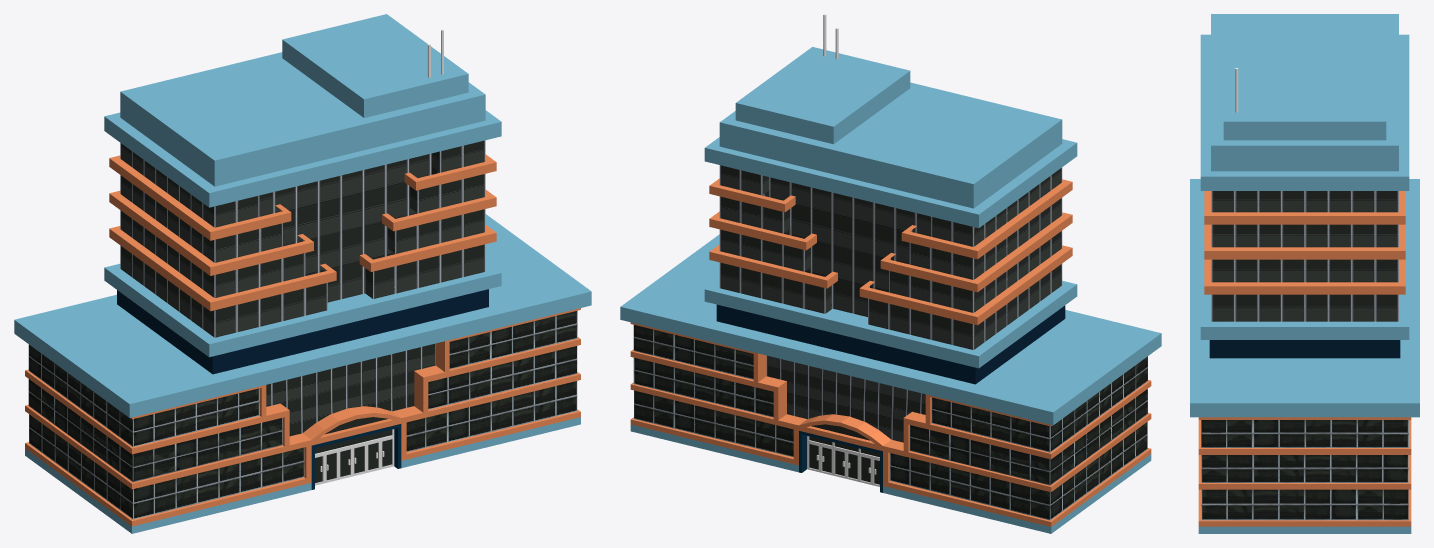
3 renders of one model, left to right at view 1: azimuth 30°, elevation 25°; view 2: azimuth 150°, elevation 25°; view 3: azimuth 270°, elevation 25°, orthographic. The views are drawn at different scales.
Parts seen in each view (by area): view 1: BB-N12; view 2: BB-N12; view 3: BB-N12.
Part boxes in pixels (left/top/right/bottom): BB-N12: left=14, top=14, right=591, bottom=533; BB-N12: left=620, top=14, right=1161, bottom=533; BB-N12: left=1190, top=14, right=1419, bottom=533.
Size of what is drawn, in the model's own units: 41.17 by 34.88 by 17.82.
